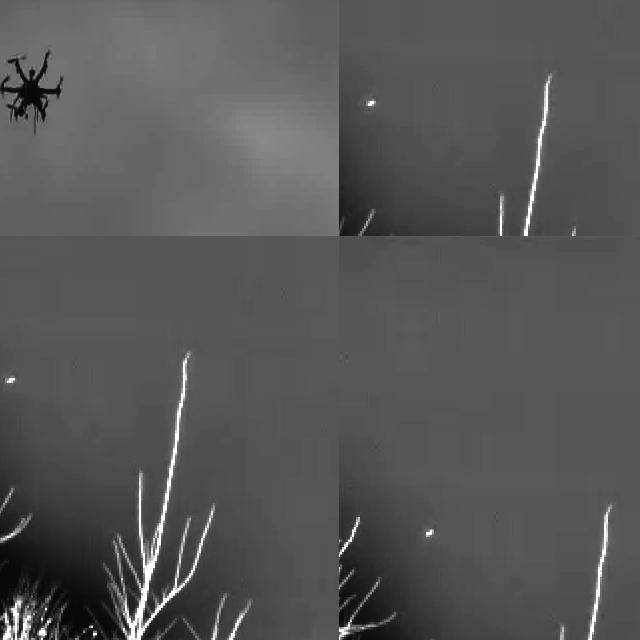0: (417, 521, 445, 553), (360, 91, 386, 123), (0, 367, 25, 400)
drone: (0, 47, 68, 133)
